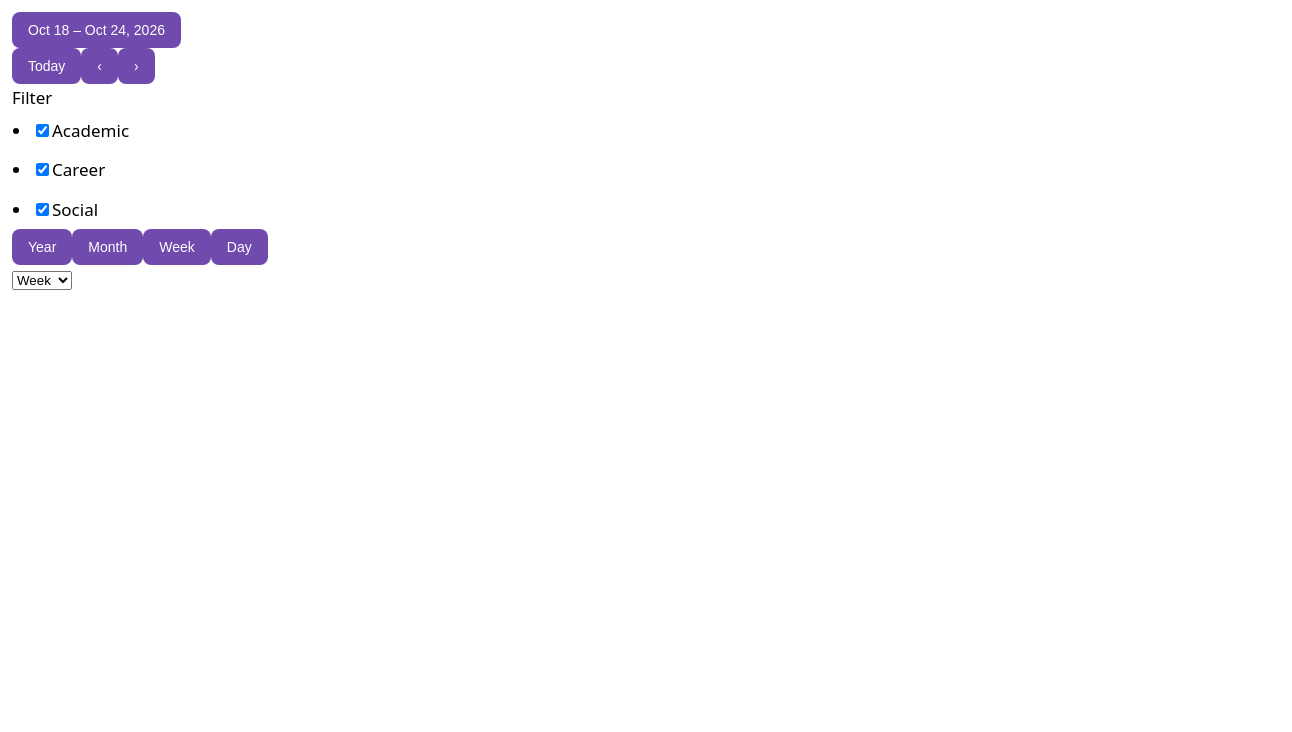
Scenario: date picker › swipes the mini month to the next or previous month
The image size is (1292, 732).
Click the button "Oct 18 – Oct 24, 2026" at (96, 30), box top-left (12, 12), bottom-right (181, 48)
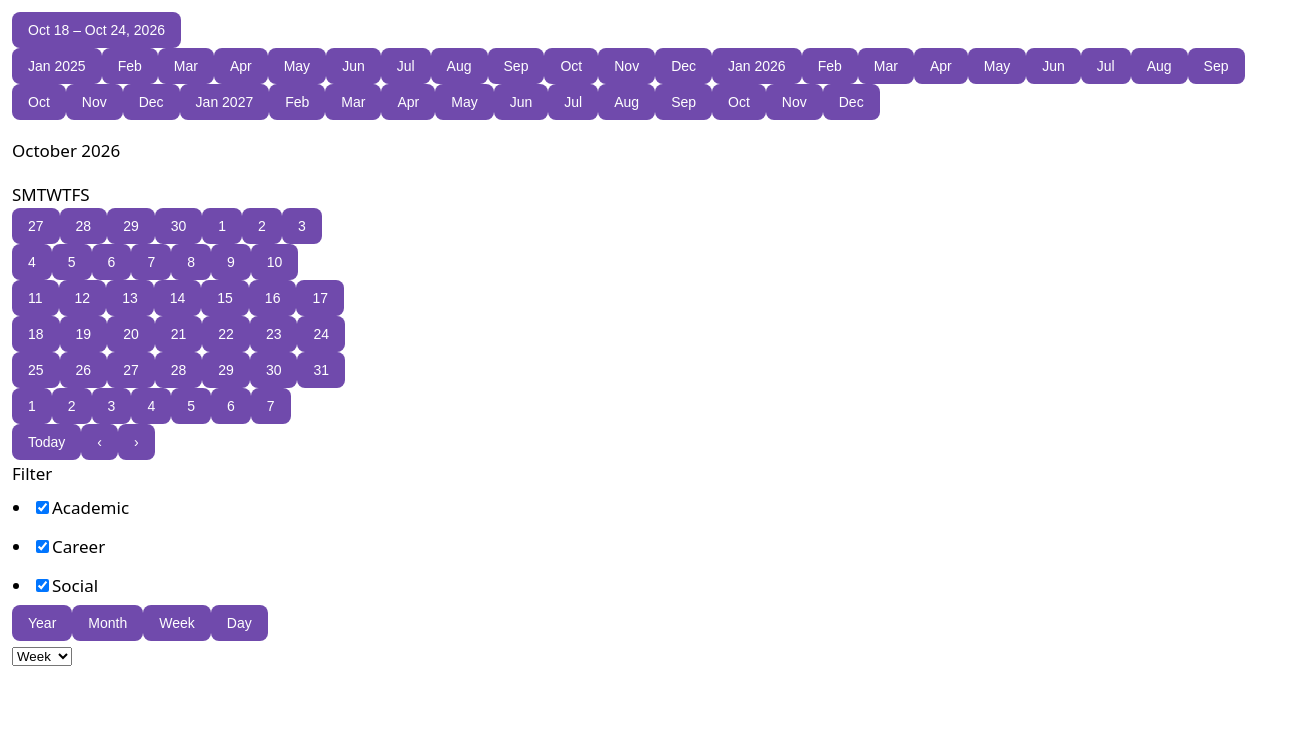
Press the mouse on the element with class "mini__body" at (178, 316), box top-left (12, 208), bottom-right (345, 424)
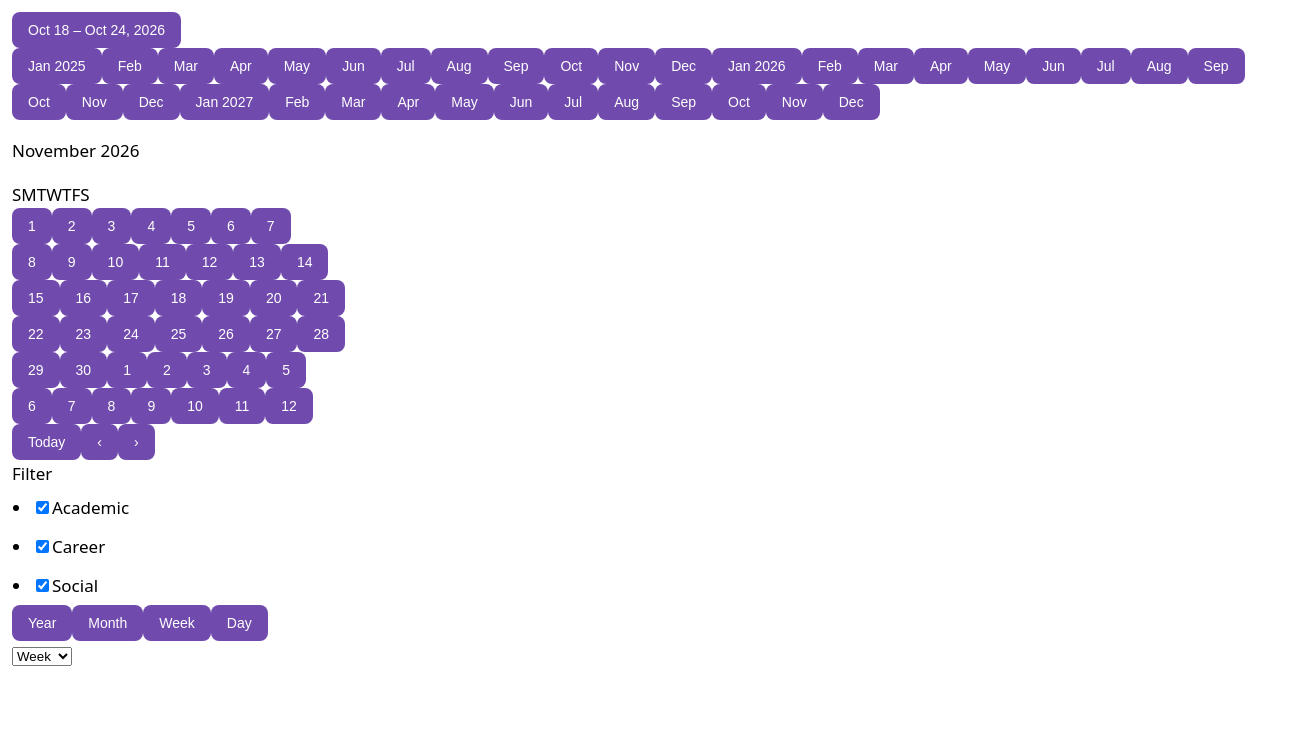
Expected: the text "November 2026" is shown, top-left (12, 139), bottom-right (139, 162)
Press the mouse on the element with class "mini__body" at (178, 316), box top-left (12, 208), bottom-right (345, 424)
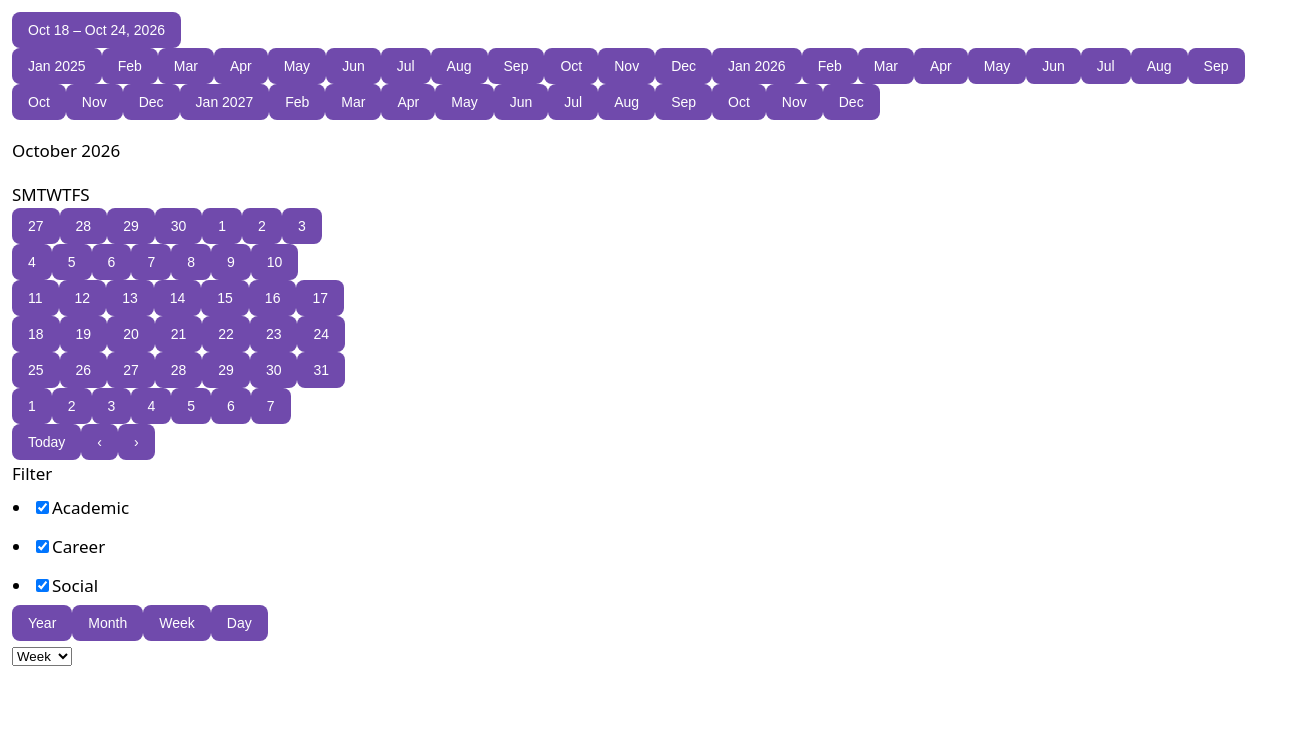
Press the mouse on the element with class "mini__body" at (178, 316), box top-left (12, 208), bottom-right (345, 424)
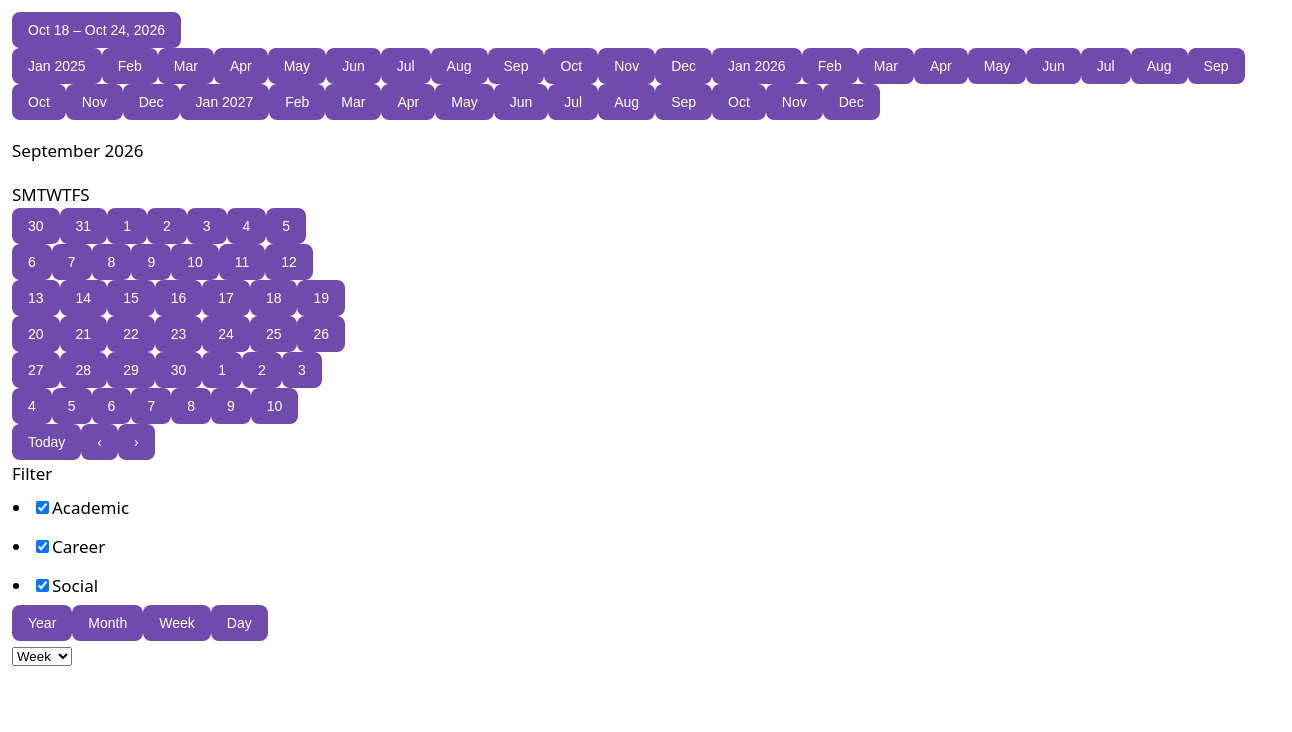
Expected: the text "September 2026" is shown, top-left (12, 139), bottom-right (143, 162)
